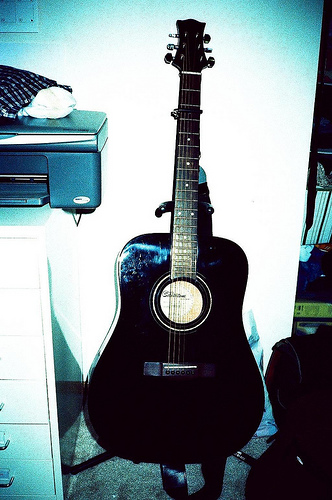guitar: (80, 17, 266, 466)
